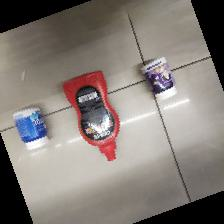Chinsu: (61, 71, 119, 162)
Xylitol_BTS: (140, 57, 179, 101)
Xylitol_blue: (10, 107, 50, 150)
